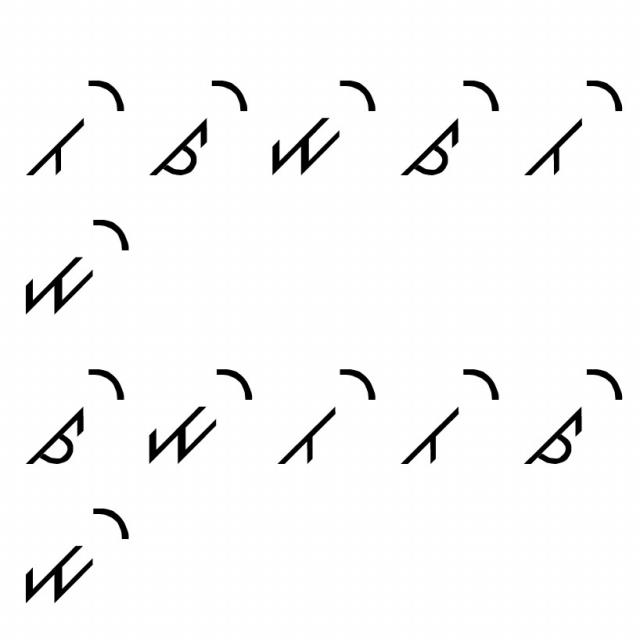bay: (18, 64, 132, 189), (400, 354, 504, 473), (519, 74, 625, 188), (275, 356, 378, 468)
cay: (394, 67, 506, 185), (18, 354, 129, 472), (523, 356, 626, 475), (148, 70, 248, 180)
may: (13, 501, 140, 608), (14, 213, 137, 317), (270, 70, 378, 180), (149, 359, 259, 466)
